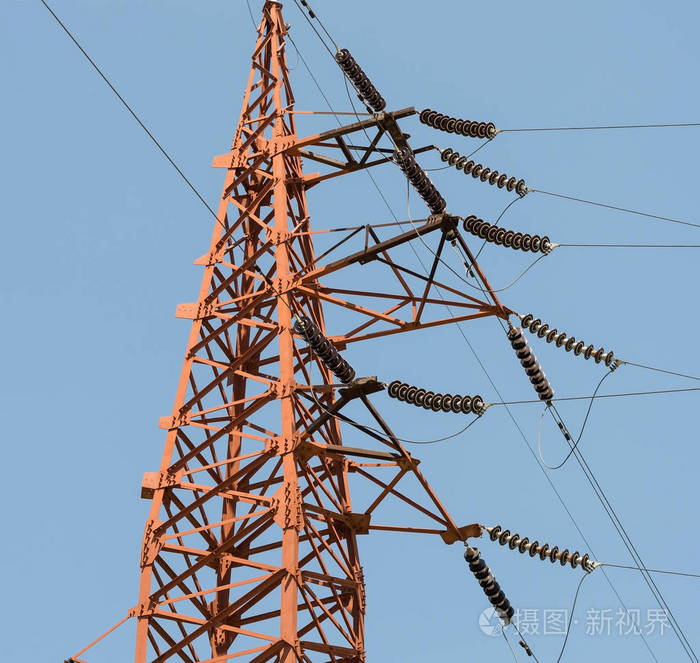insulator: (486, 523, 591, 570), (520, 314, 612, 365), (294, 315, 358, 383), (441, 148, 525, 194), (392, 144, 447, 212), (463, 548, 513, 622), (506, 326, 553, 403), (463, 213, 552, 252), (334, 48, 385, 112), (387, 379, 483, 413), (417, 110, 494, 139)
